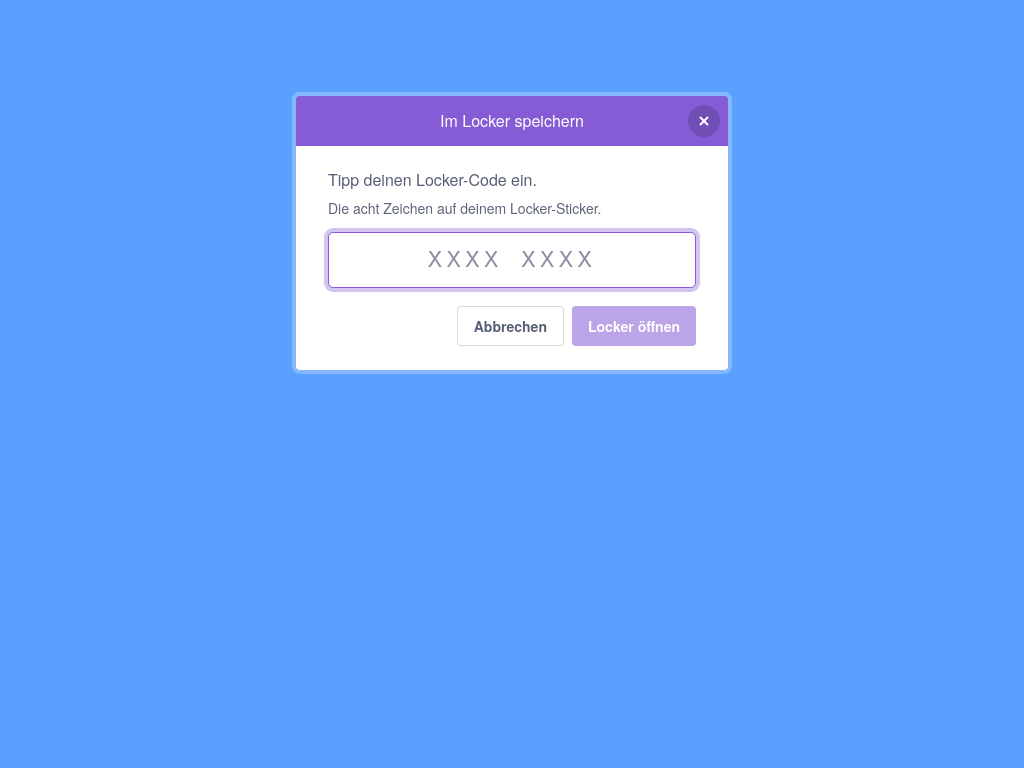
Test: LockerDialog › a wrong code stays in the field with the Locker sentence
Type "K7QM4XRY" into the field labelled "Tipp deinen Locker-Code ein.". click: [512, 260]
box: top-left (328, 232), bottom-right (696, 288)
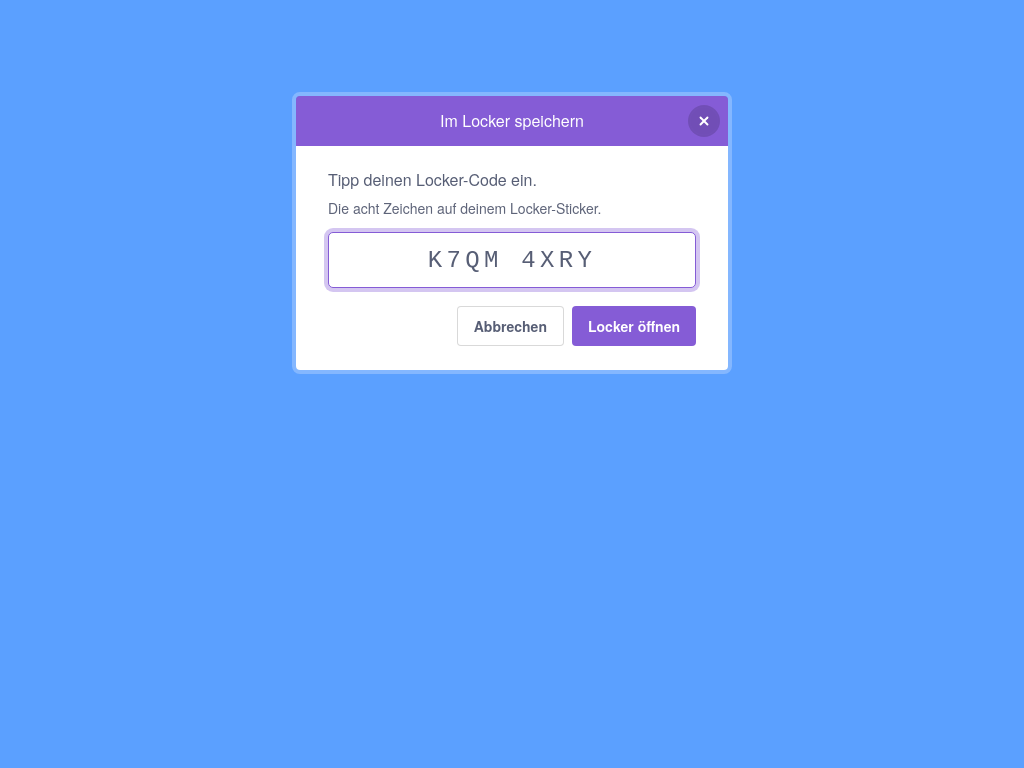
Click the button "Locker öffnen". click: [634, 326]
box: top-left (572, 306), bottom-right (696, 346)
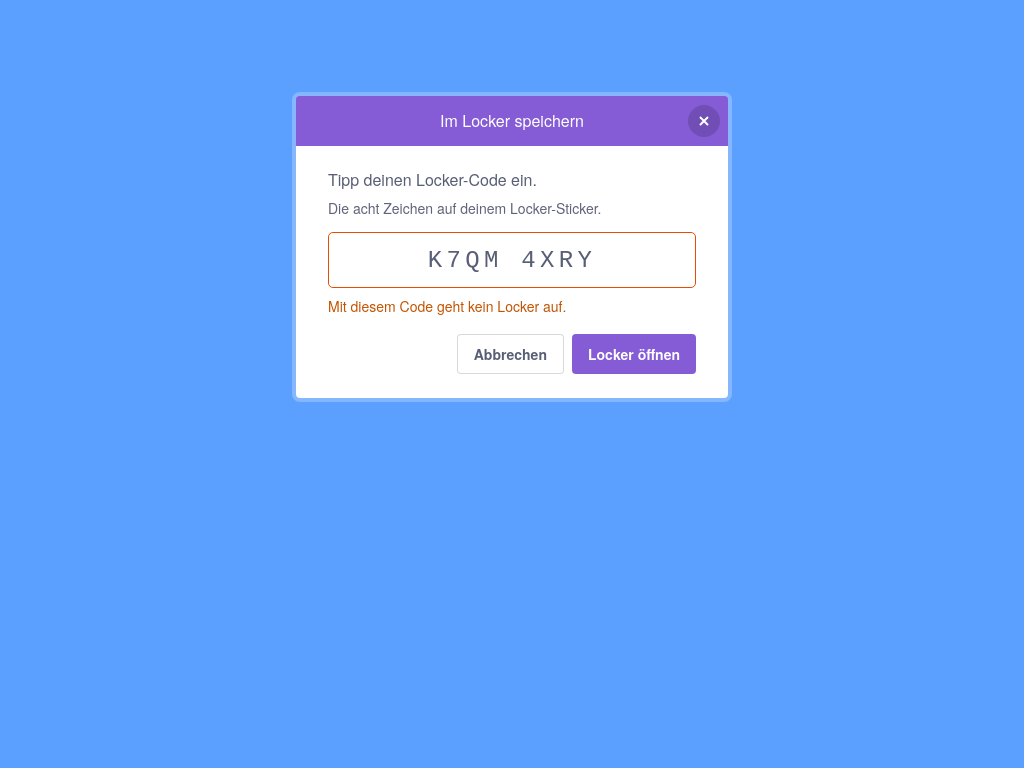
Now the field labelled "Tipp deinen Locker-Code ein." holds "K7QM 4XRY", box top-left (328, 232), bottom-right (696, 288)
Now the message reads "Mit diesem Code geht kein Locker auf.", box top-left (328, 296), bottom-right (566, 316)
